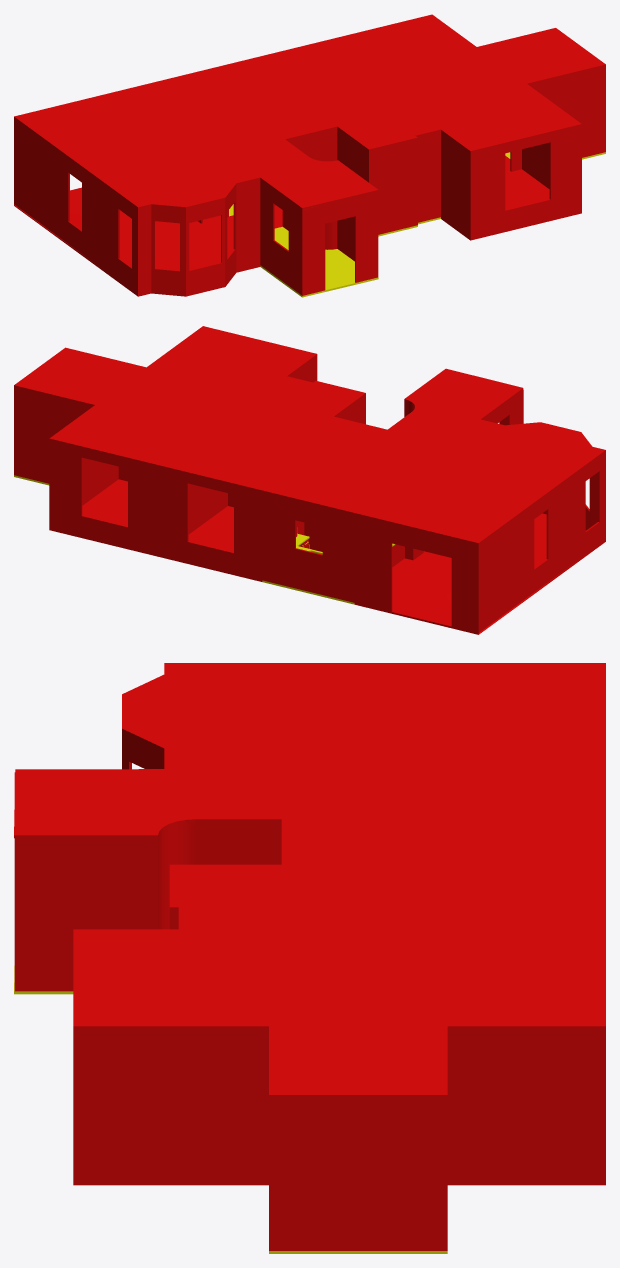
The model's file is target_house_02_grp.fbx.
3 views of the same model, one above another, from view 1: azimuth 30°, elevation 25°; view 2: azimuth 150°, elevation 25°; view 3: azimuth 270°, elevation 25° (orthographic). The views are drawn at different scales.
Parts seen in each view (by area): view 1: target_house_02_ceiling, target_house_02_walls, target_house_02_floor; view 2: target_house_02_ceiling, target_house_02_walls, target_house_02_floor, target_house_02_countertop_5; view 3: target_house_02_ceiling, target_house_02_walls, target_house_02_floor.
Boxes of the visible parts, box(x1,y1,x2,y2) form: target_house_02_ceiling: box(14, 14, 605, 209); target_house_02_walls: box(14, 66, 605, 295); target_house_02_floor: box(14, 152, 605, 297); target_house_02_ceiling: box(14, 326, 605, 544); target_house_02_walls: box(14, 356, 605, 632); target_house_02_floor: box(14, 475, 605, 634); target_house_02_countertop_5: box(304, 522, 322, 551); target_house_02_ceiling: box(14, 663, 605, 1097); target_house_02_walls: box(14, 732, 605, 1250); target_house_02_floor: box(14, 966, 605, 1253).
Size of the model in its own units: 1616 by 278 by 936.
